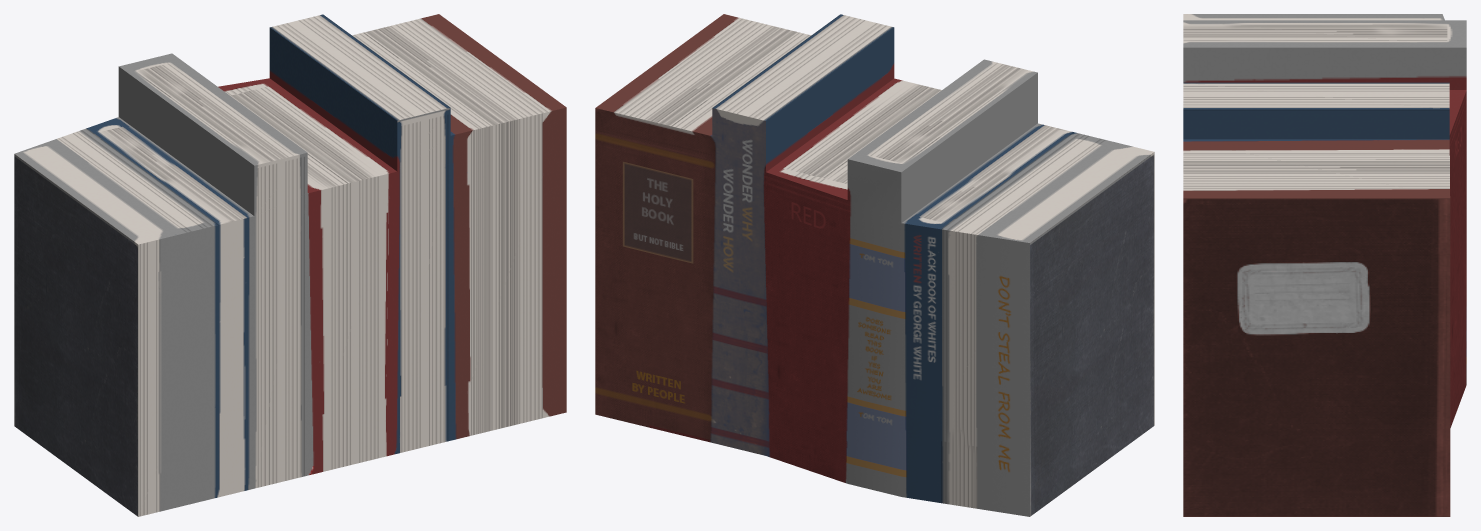
Rendered from Book_Set.FBX.
The picture shows the model from 3 angles, left to right: view 1: azimuth 30°, elevation 25°; view 2: azimuth 150°, elevation 25°; view 3: azimuth 270°, elevation 25°; orthographic projection. The views are drawn at different scales.
Visible parts, largest first — view 1: Book_Set; view 2: Book_Set; view 3: Book_Set.
Boxes of the visible parts, left/top/right/bottom form: Book_Set: left=14, top=14, right=566, bottom=516; Book_Set: left=595, top=14, right=1154, bottom=516; Book_Set: left=1183, top=14, right=1466, bottom=516.
Size of the model in its own units: 34.06 by 25.3 by 18.67.
